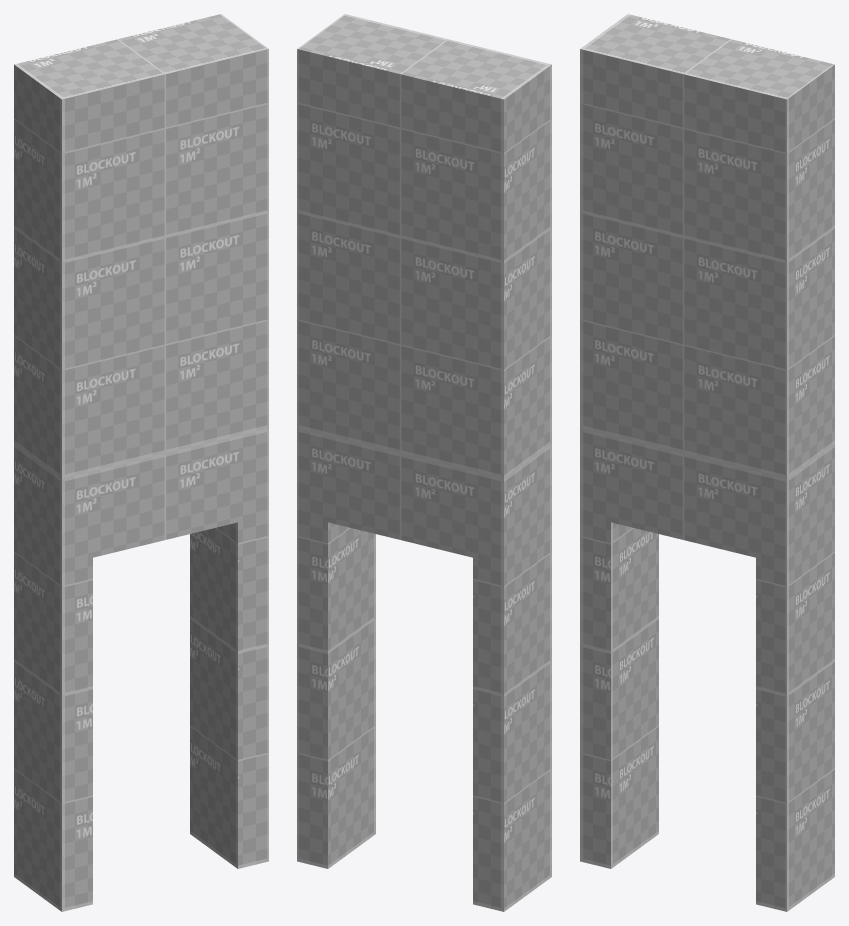
Rendered from BlockoutThickWall02Door.fbx.
3 renders of one model, left to right at view 1: azimuth 30°, elevation 25°; view 2: azimuth 150°, elevation 25°; view 3: azimuth 330°, elevation 25°, orthographic.
Visible parts, largest first — view 1: BlockoutThickWall02Door; view 2: BlockoutThickWall02Door; view 3: BlockoutThickWall02Door.
Part boxes in pixels (x1,y1,x2,y2): BlockoutThickWall02Door: (14, 14, 268, 911); BlockoutThickWall02Door: (297, 14, 551, 911); BlockoutThickWall02Door: (580, 14, 834, 911).
Size of the model in its own units: 200 by 750 by 80.
